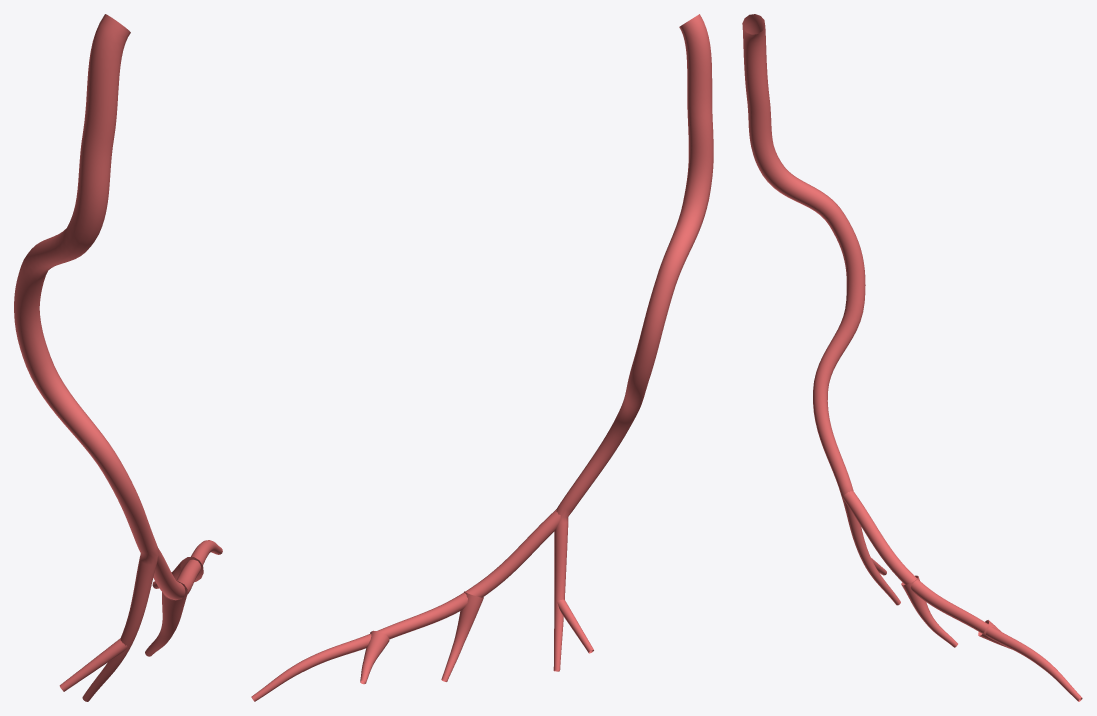
Rendered from Appendicular_artery.glb.
The picture shows the model from 3 angles, left to right: view 1: azimuth 30°, elevation 25°; view 2: azimuth 150°, elevation 25°; view 3: azimuth 270°, elevation 25°; orthographic projection. The views are drawn at different scales.
Visible parts, largest first — view 1: Appendicular_artery_BezierCurve.424; view 2: Appendicular_artery_BezierCurve.424; view 3: Appendicular_artery_BezierCurve.424.
Boxes of the visible parts, bbox=[...] form: Appendicular_artery_BezierCurve.424: bbox=[14, 14, 222, 701]; Appendicular_artery_BezierCurve.424: bbox=[251, 14, 713, 701]; Appendicular_artery_BezierCurve.424: bbox=[742, 14, 1082, 701].
Size of the model in its own units: 0.0321 by 0.0654 by 0.0354.
